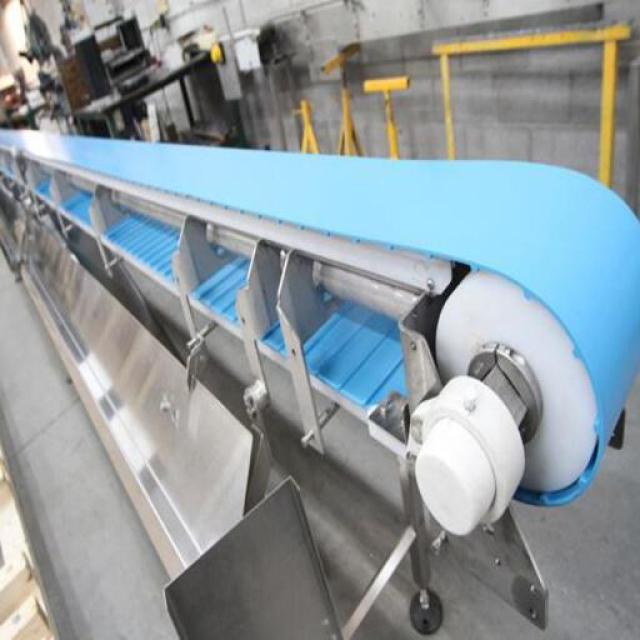conveyor: (0, 121, 640, 514)
